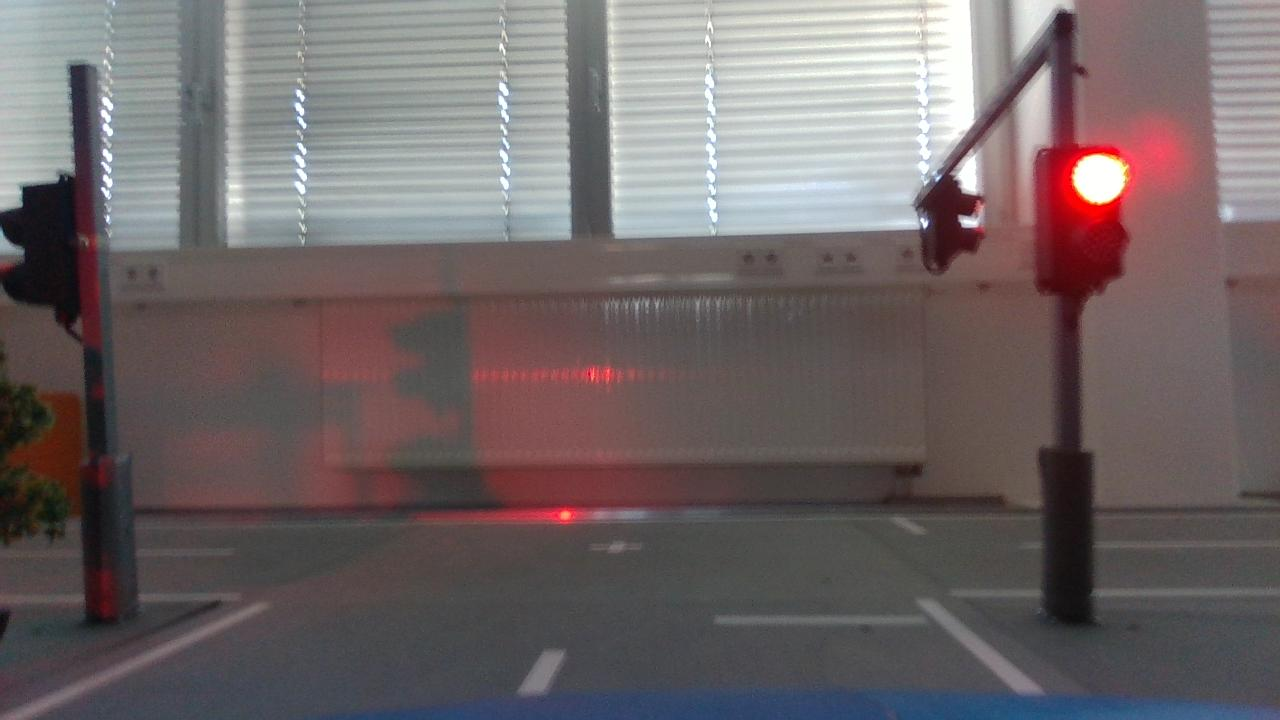traffic_light_red: (1019, 137, 1157, 319)
